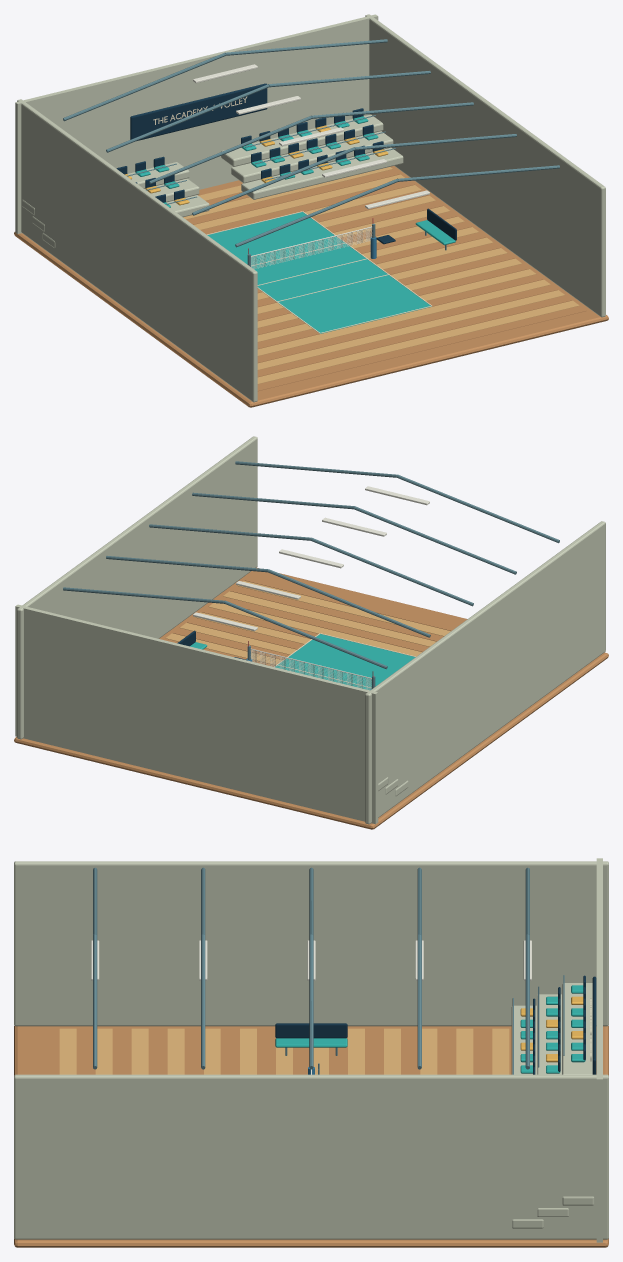
Rendered from volleyball-gym.glb.
3 views of the same model, one above another, from view 1: azimuth 30°, elevation 25°; view 2: azimuth 150°, elevation 25°; view 3: azimuth 270°, elevation 25° (orthographic). The views are drawn at different scales.
Visible parts, largest first — view 1: Venue, BenchRight; view 2: Venue; view 3: Venue, BenchLeft.
Part boxes in pixels (x1,y1,x2,y2): Venue: [14, 14, 608, 407]; BenchRight: [415, 208, 456, 250]; Venue: [14, 436, 608, 829]; Venue: [14, 858, 608, 1247]; BenchLeft: [275, 1023, 347, 1055].
Bounding box in the file's own units: 29 × 12.52 × 33.
